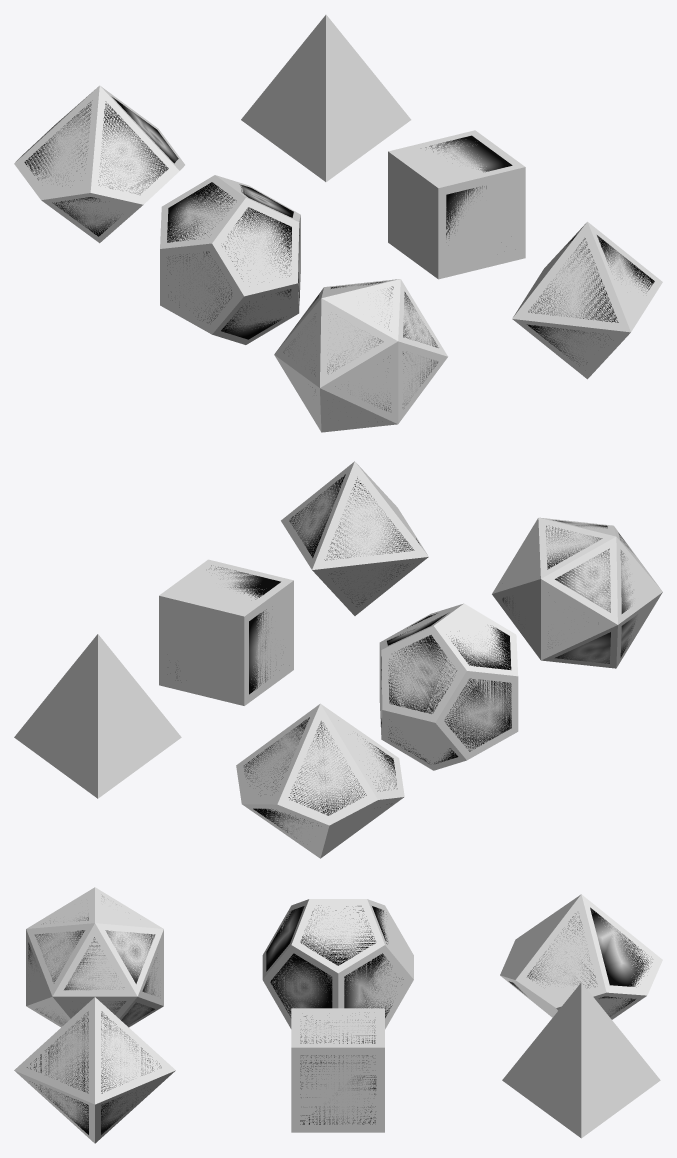
The model's file is dice.glb.
3 views of the same model, one above another, from view 1: azimuth 30°, elevation 25°; view 2: azimuth 150°, elevation 25°; view 3: azimuth 270°, elevation 25° (orthographic). The views are drawn at different scales.
Visible parts, largest first — view 1: SHAPE_D20, SHAPE_D12, SHAPE_D6, SHAPE_D10, SHAPE_D4, SHAPE_D8, MODEL_D10, MODEL_D12, MODEL_D4, MODEL_D8, MODEL_D6, MODEL_D20; view 2: SHAPE_D12, SHAPE_D20, SHAPE_D10, SHAPE_D6, SHAPE_D4, SHAPE_D8, MODEL_D12, MODEL_D4, MODEL_D20, MODEL_D10, MODEL_D8, MODEL_D6; view 3: SHAPE_D20, SHAPE_D4, SHAPE_D6, SHAPE_D8, SHAPE_D12, SHAPE_D10, MODEL_D12, MODEL_D20, MODEL_D8, MODEL_D10, MODEL_D4, MODEL_D6.
Boxes of the visible parts, left/top/right/bottom form: SHAPE_D20: left=274, top=279, right=447, bottom=432; SHAPE_D12: left=160, top=175, right=300, bottom=344; SHAPE_D6: left=388, top=130, right=525, bottom=279; SHAPE_D10: left=14, top=85, right=184, bottom=243; SHAPE_D4: left=241, top=14, right=411, bottom=181; SHAPE_D8: left=512, top=221, right=662, bottom=379; MODEL_D10: left=22, top=96, right=178, bottom=236; MODEL_D12: left=167, top=182, right=299, bottom=339; MODEL_D4: left=254, top=36, right=397, bottom=164; MODEL_D8: left=527, top=234, right=654, bottom=362; MODEL_D6: left=425, top=135, right=512, bottom=242; MODEL_D20: left=283, top=281, right=438, bottom=410; SHAPE_D12: left=379, top=603, right=518, bottom=770; SHAPE_D20: left=492, top=517, right=662, bottom=668; SHAPE_D10: left=236, top=703, right=404, bottom=858; SHAPE_D6: left=159, top=559, right=293, bottom=705; SHAPE_D4: left=14, top=634, right=181, bottom=798; SHAPE_D8: left=281, top=461, right=428, bottom=615; MODEL_D12: left=381, top=613, right=511, bottom=763; MODEL_D4: left=27, top=655, right=168, bottom=781; MODEL_D20: left=502, top=520, right=637, bottom=663; MODEL_D10: left=244, top=717, right=397, bottom=841; MODEL_D8: left=289, top=474, right=419, bottom=606; MODEL_D6: left=175, top=565, right=280, bottom=694; SHAPE_D20: left=26, top=887, right=163, bottom=1027; SHAPE_D4: left=502, top=982, right=660, bottom=1138; SHAPE_D6: left=291, top=1008, right=384, bottom=1132; SHAPE_D8: left=14, top=997, right=175, bottom=1143; SHAPE_D12: left=262, top=899, right=413, bottom=1029; SHAPE_D10: left=500, top=894, right=662, bottom=1019; MODEL_D12: left=266, top=905, right=403, bottom=1017; MODEL_D20: left=28, top=895, right=160, bottom=1025; MODEL_D8: left=27, top=1011, right=161, bottom=1134; MODEL_D10: left=509, top=907, right=652, bottom=1016; MODEL_D4: left=587, top=1002, right=626, bottom=1121; MODEL_D6: left=300, top=1016, right=376, bottom=1124.
Size of the model in its own units: 5.09 by 2.2 by 8.01.
3 materials, 1 textured.
